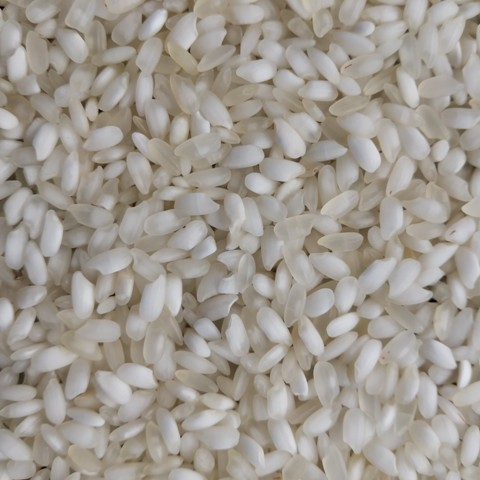h: (49, 9, 395, 421)
